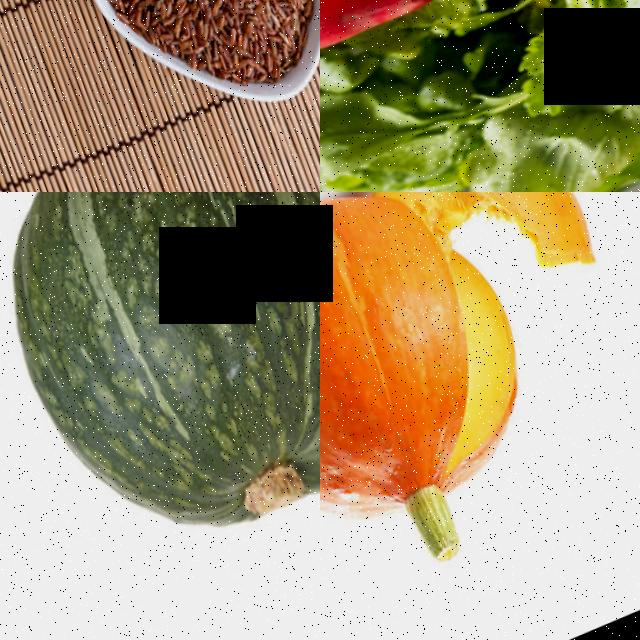pumpkin: (0, 192, 320, 599), (320, 192, 538, 583), (394, 192, 608, 326)
radishes: (320, 0, 640, 139)
red rice: (31, 0, 320, 138)
